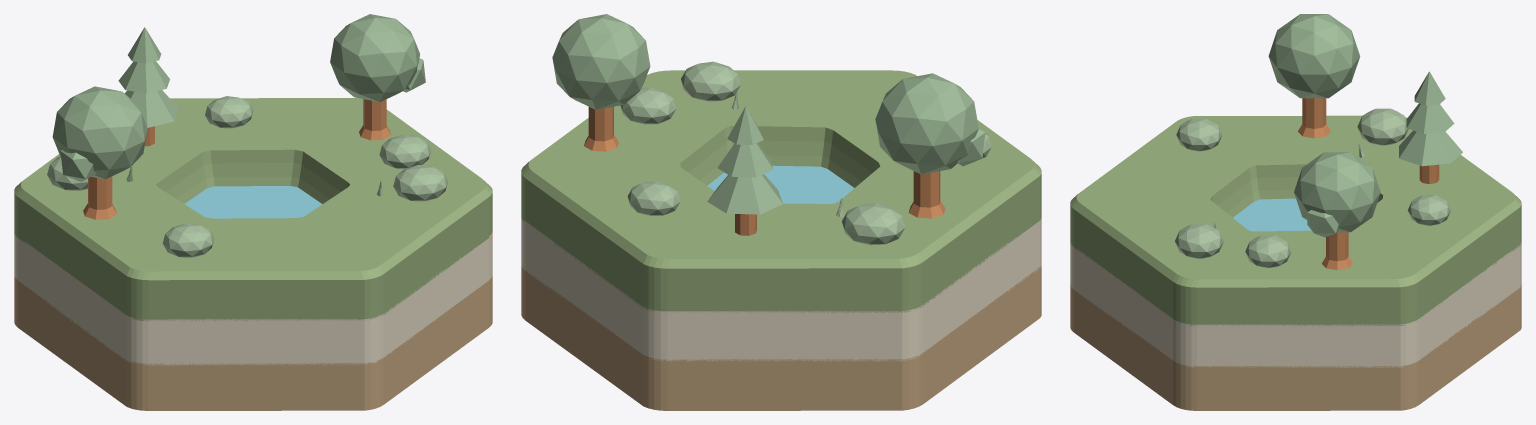
Rendered from isleo.glb.
The picture shows the model from 3 angles, left to right: view 1: azimuth 30°, elevation 25°; view 2: azimuth 150°, elevation 25°; view 3: azimuth 270°, elevation 25°; orthographic projection. The views are drawn at different scales.
Parts seen in each view (by area): view 1: HEX_grass, HEX_brown, HEX_cream, TreeL_crown, TreeR_crown, POND_water, Bush2, Bush4, Bush3, Bush5, Pine_tier_1, Pine_tier_0 (+5 smaller); view 2: HEX_grass, HEX_brown, HEX_cream, TreeL_crown, TreeR_crown, POND_water, Pine_tier_0, Bush1, Bush2, Bush3, Bush5, Pine_tier_1 (+4 smaller); view 3: HEX_grass, HEX_brown, HEX_cream, TreeL_crown, TreeR_crown, POND_water, Pine_tier_0, Bush1, Bush2, Bush4, Bush3, Pine_tier_1 (+5 smaller).
Part boxes in pixels (left/top/right/bottom): HEX_grass: left=14, top=98, right=492, bottom=321; HEX_brown: left=14, top=276, right=492, bottom=410; HEX_cream: left=14, top=232, right=492, bottom=365; TreeL_crown: left=52, top=86, right=147, bottom=179; TreeR_crown: left=330, top=14, right=419, bottom=101; POND_water: left=185, top=186, right=322, bottom=218; Bush2: left=393, top=165, right=448, bottom=201; Bush4: left=162, top=223, right=214, bottom=257; Bush3: left=379, top=134, right=431, bottom=168; Bush5: left=205, top=96, right=253, bottom=128; Pine_tier_1: left=118, top=61, right=169, bottom=93; Pine_tier_0: left=125, top=90, right=178, bottom=127; HEX_grass: left=521, top=70, right=1041, bottom=313; HEX_brown: left=521, top=266, right=1041, bottom=410; HEX_cream: left=521, top=218, right=1041, bottom=361; TreeL_crown: left=875, top=73, right=978, bottom=174; TreeR_crown: left=552, top=14, right=650, bottom=109; POND_water: left=707, top=165, right=854, bottom=203; Pine_tier_0: left=707, top=174, right=782, bottom=214; Bush1: left=842, top=203, right=905, bottom=245; Bush2: left=681, top=61, right=740, bottom=101; Bush3: left=620, top=87, right=676, bottom=124; Bush5: left=627, top=181, right=680, bottom=215; Pine_tier_1: left=717, top=143, right=773, bottom=177; HEX_grass: left=1070, top=115, right=1521, bottom=326; HEX_brown: left=1070, top=284, right=1521, bottom=410; HEX_cream: left=1070, top=242, right=1521, bottom=367; TreeL_crown: left=1268, top=14, right=1360, bottom=98; TreeR_crown: left=1294, top=152, right=1380, bottom=232; POND_water: left=1233, top=198, right=1311, bottom=231; Pine_tier_0: left=1399, top=130, right=1462, bottom=166; Bush1: left=1357, top=108, right=1408, bottom=145; Bush2: left=1175, top=224, right=1223, bottom=258; Bush4: left=1176, top=118, right=1222, bottom=151; Bush3: left=1245, top=235, right=1291, bottom=267; Pine_tier_1: left=1406, top=103, right=1454, bottom=133.
Size of the model in its own units: 1.77 by 1.17 by 1.96.
